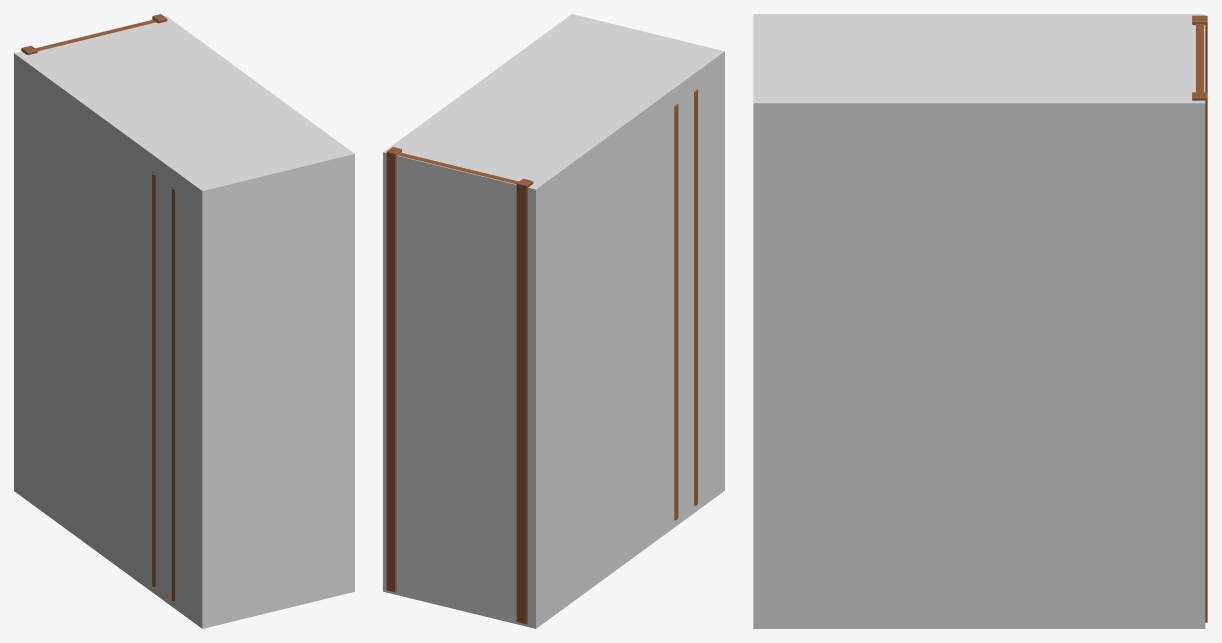
The model's file is triple-bunk-bed-01.glb.
3 views of the same model, side by side, from view 1: azimuth 30°, elevation 25°; view 2: azimuth 150°, elevation 25°; view 3: azimuth 270°, elevation 25° (orthographic). The views are drawn at different scales.
Parts seen in each view (by area): view 1: Triple bunk bed_col, Triple bunk bed; view 2: Triple bunk bed_col, Triple bunk bed; view 3: Triple bunk bed_col, Triple bunk bed.
Part boxes in pixels (bbox=[...]): Triple bunk bed_col: bbox=[14, 16, 354, 628]; Triple bunk bed: bbox=[21, 14, 175, 601]; Triple bunk bed_col: bbox=[383, 14, 724, 628]; Triple bunk bed: bbox=[386, 89, 697, 624]; Triple bunk bed_col: bbox=[753, 14, 1205, 628]; Triple bunk bed: bbox=[1192, 15, 1207, 622].
Size of the model in its own units: 5.24 by 14.33 by 11.16.
